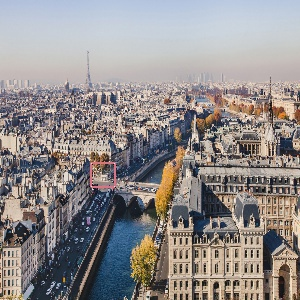square: (89, 161, 116, 189)
